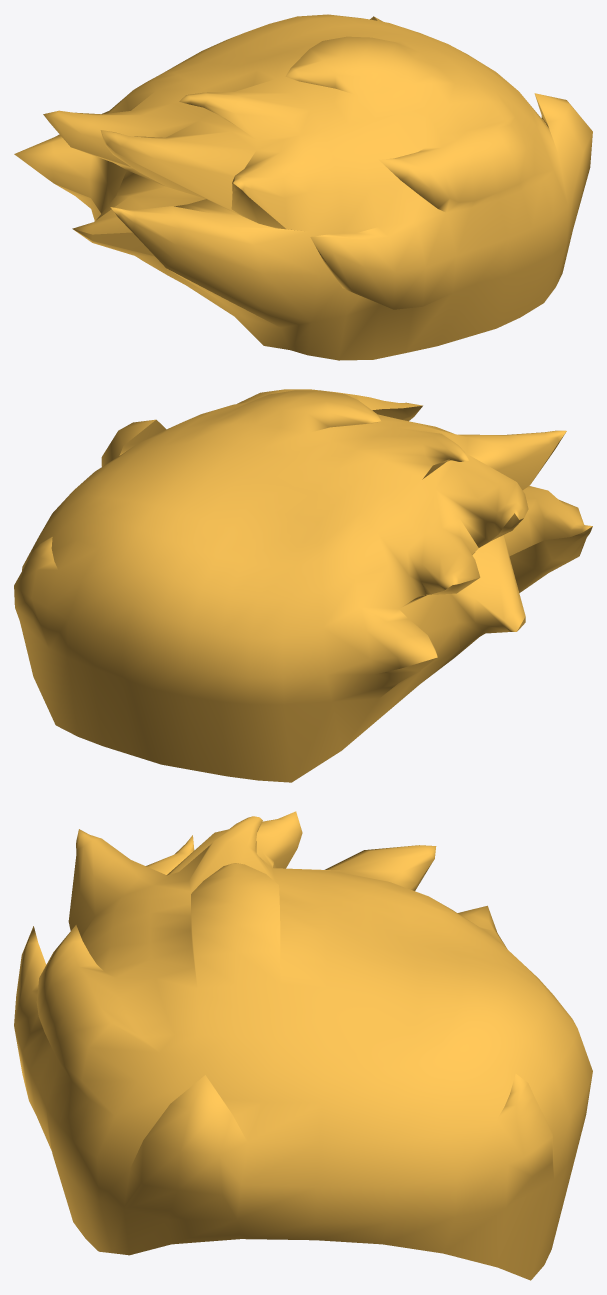
Rendered from Hair_22_05.fbx.
The picture shows the model from 3 angles, top to bottom: view 1: azimuth 30°, elevation 25°; view 2: azimuth 150°, elevation 25°; view 3: azimuth 270°, elevation 25°; orthographic projection. The views are drawn at different scales.
Parts seen in each view (by area): view 1: Hair_22_05; view 2: Hair_22_05; view 3: Hair_22_05.
Boxes of the visible parts, x1,y1,x2,y2 form: Hair_22_05: (14,14,592,360); Hair_22_05: (14,389,592,782); Hair_22_05: (14,811,592,1280).
Size of the model in its own units: 34.1 by 18.35 by 30.44.
